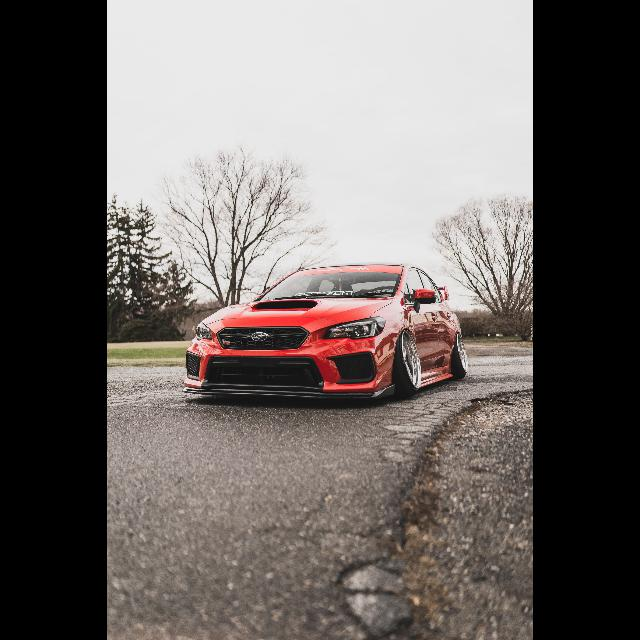cars: (176, 249, 478, 419)
